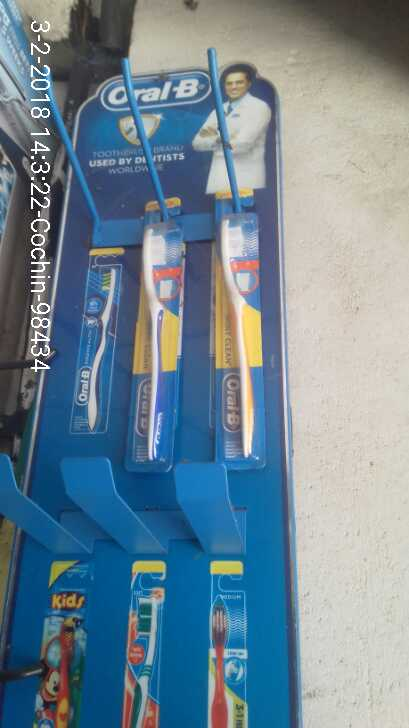oralb: (211, 195, 269, 466), (130, 199, 184, 470)
